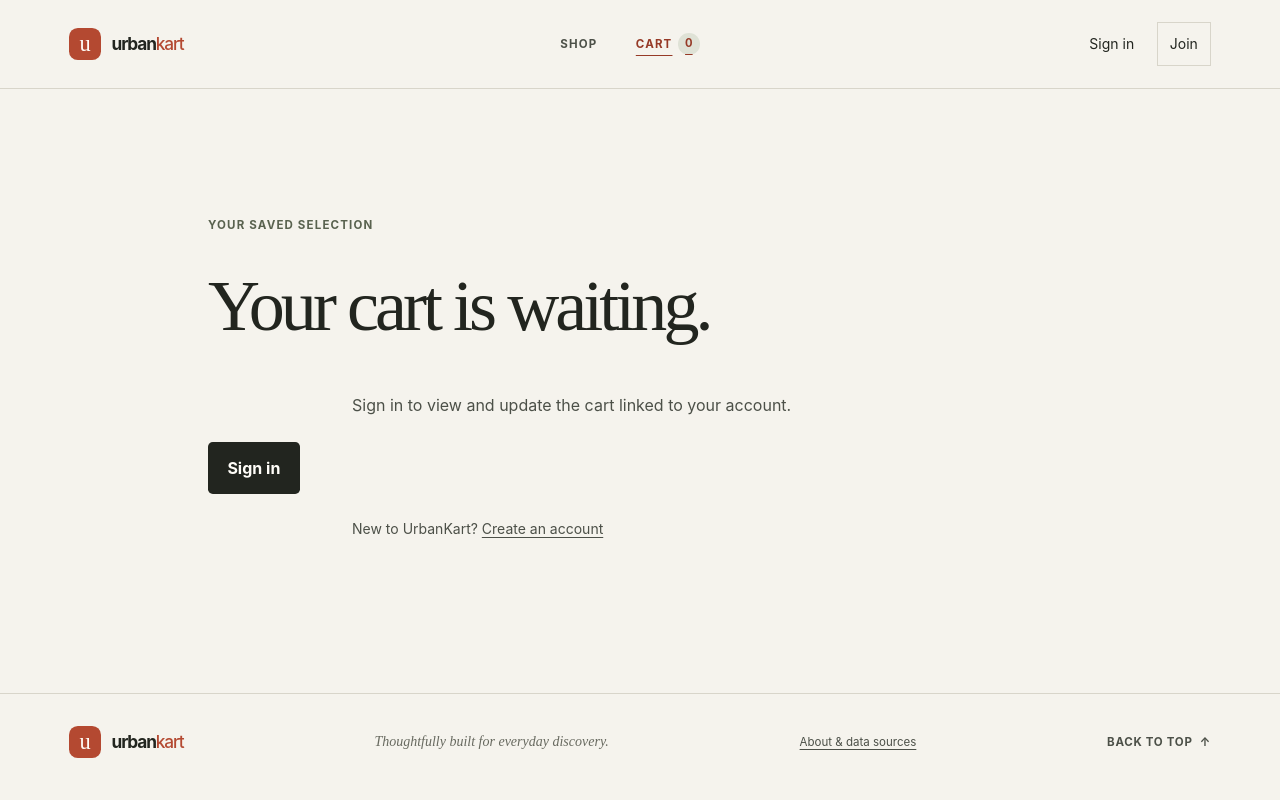
Test: Stage C cart › shows an empty cart and browse action for an authenticated customer
Click the link "Sign in" below "Your cart is waiting.".
click(254, 468)  # box [208,442,300,494]
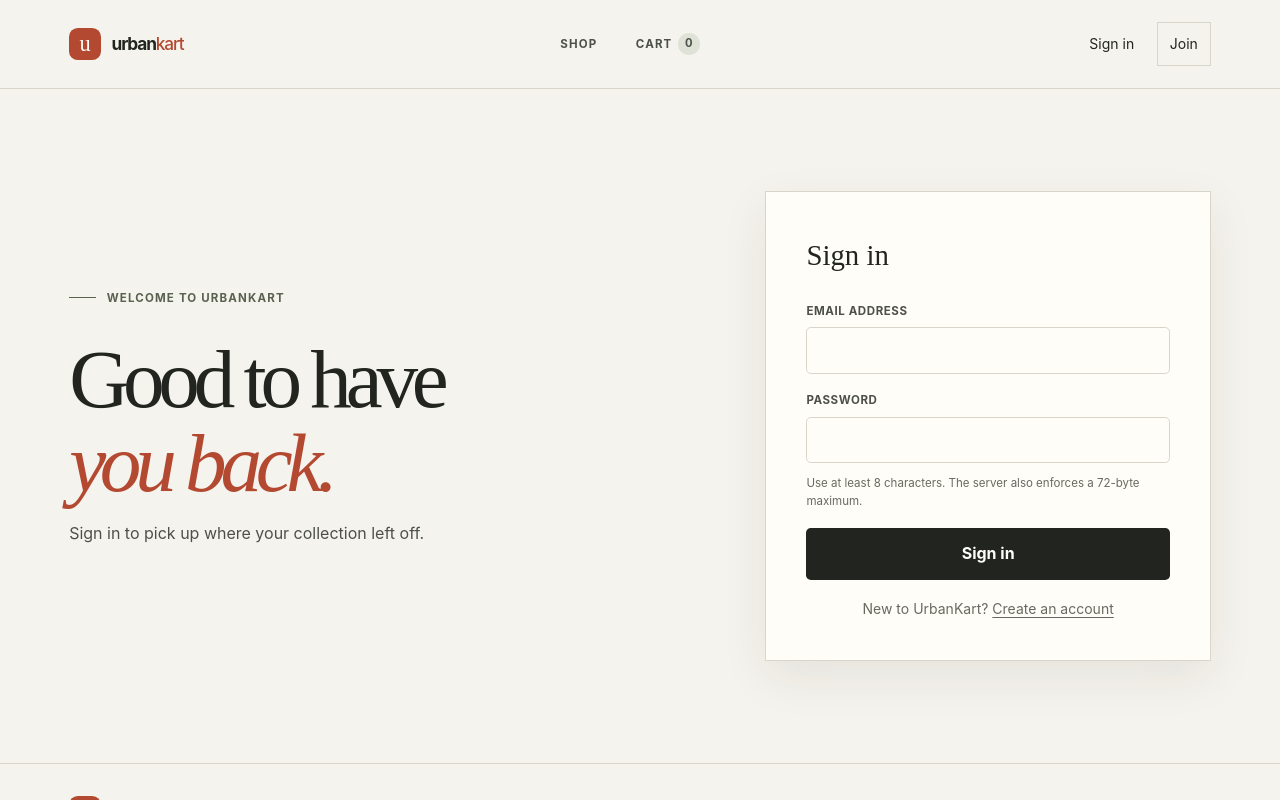
Type "shopper@example.test" into the field labelled "Email address".
click(988, 350); type("shopper@example.test")  # box [806,327,1170,374]
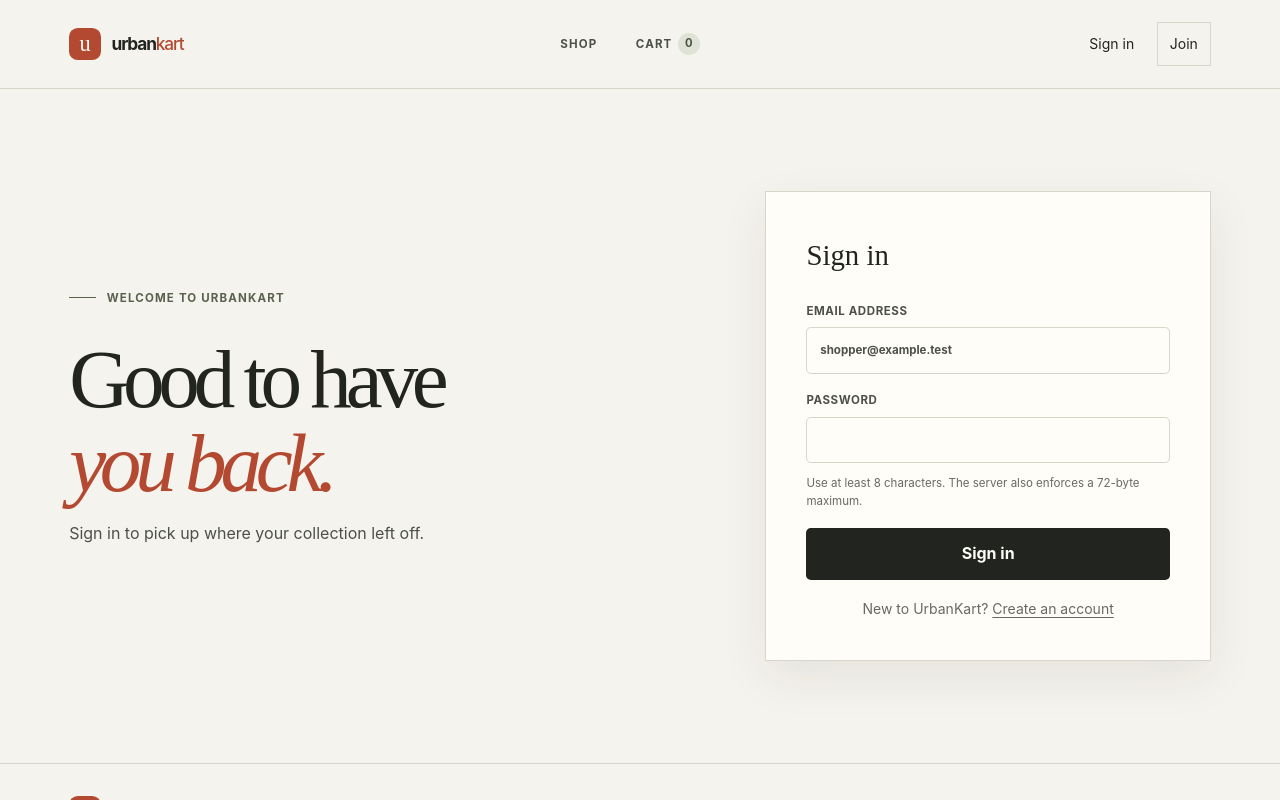
Type "correct-horse" into the password field labelled "Password".
click(988, 440); type("correct-horse")  # box [806,417,1170,463]
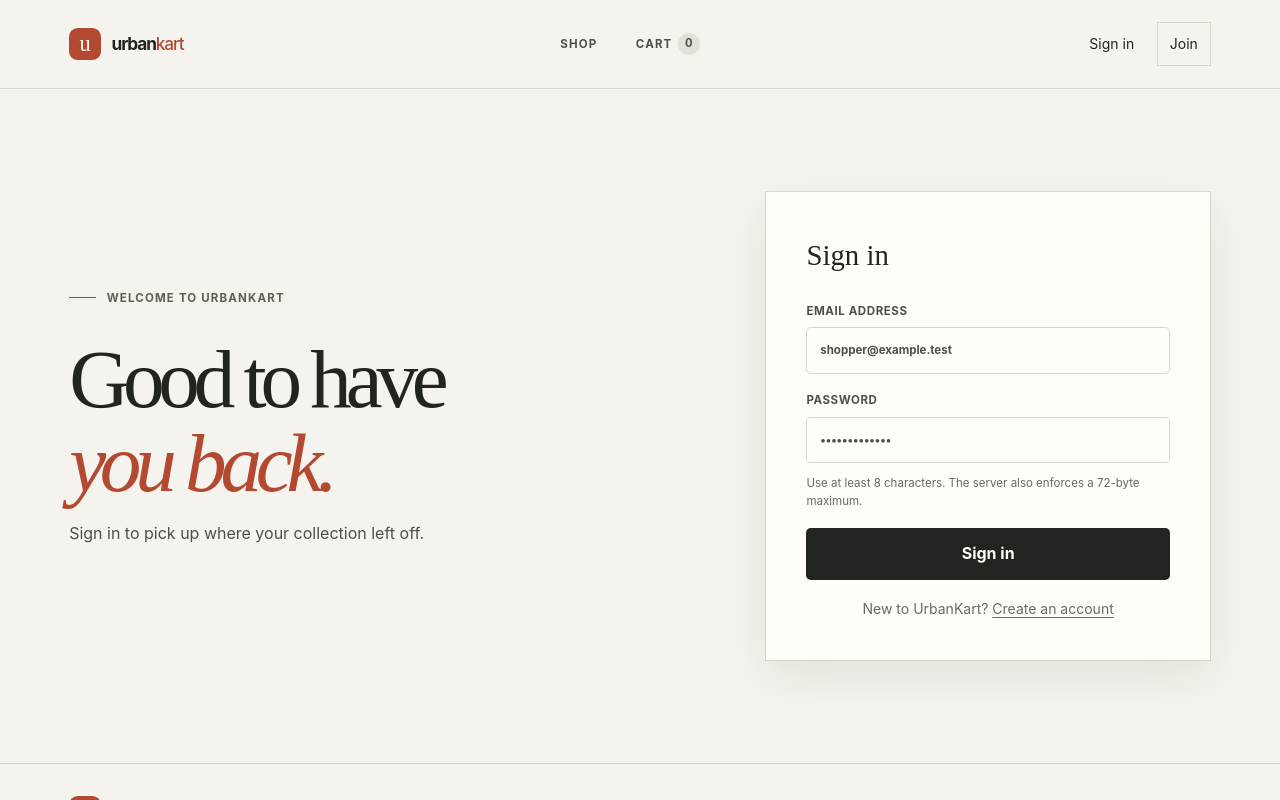
Click the button "Sign in".
click(988, 554)  # box [806,528,1170,580]
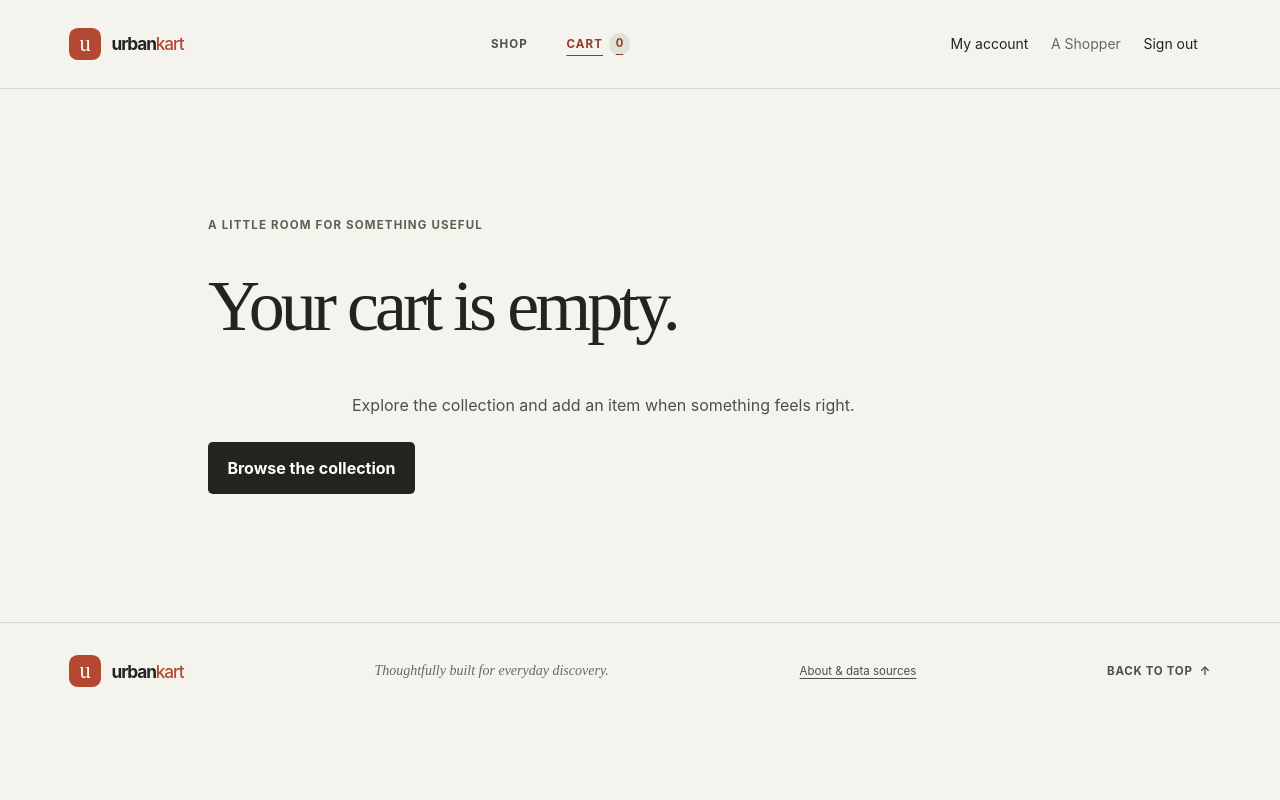
Result: the heading "Your cart is empty." is shown at [208,266,677,346]
Result: the link "Browse the collection" is shown at [208,442,415,494]
